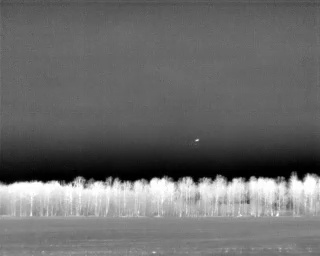DRONE: (193, 135, 202, 146)
